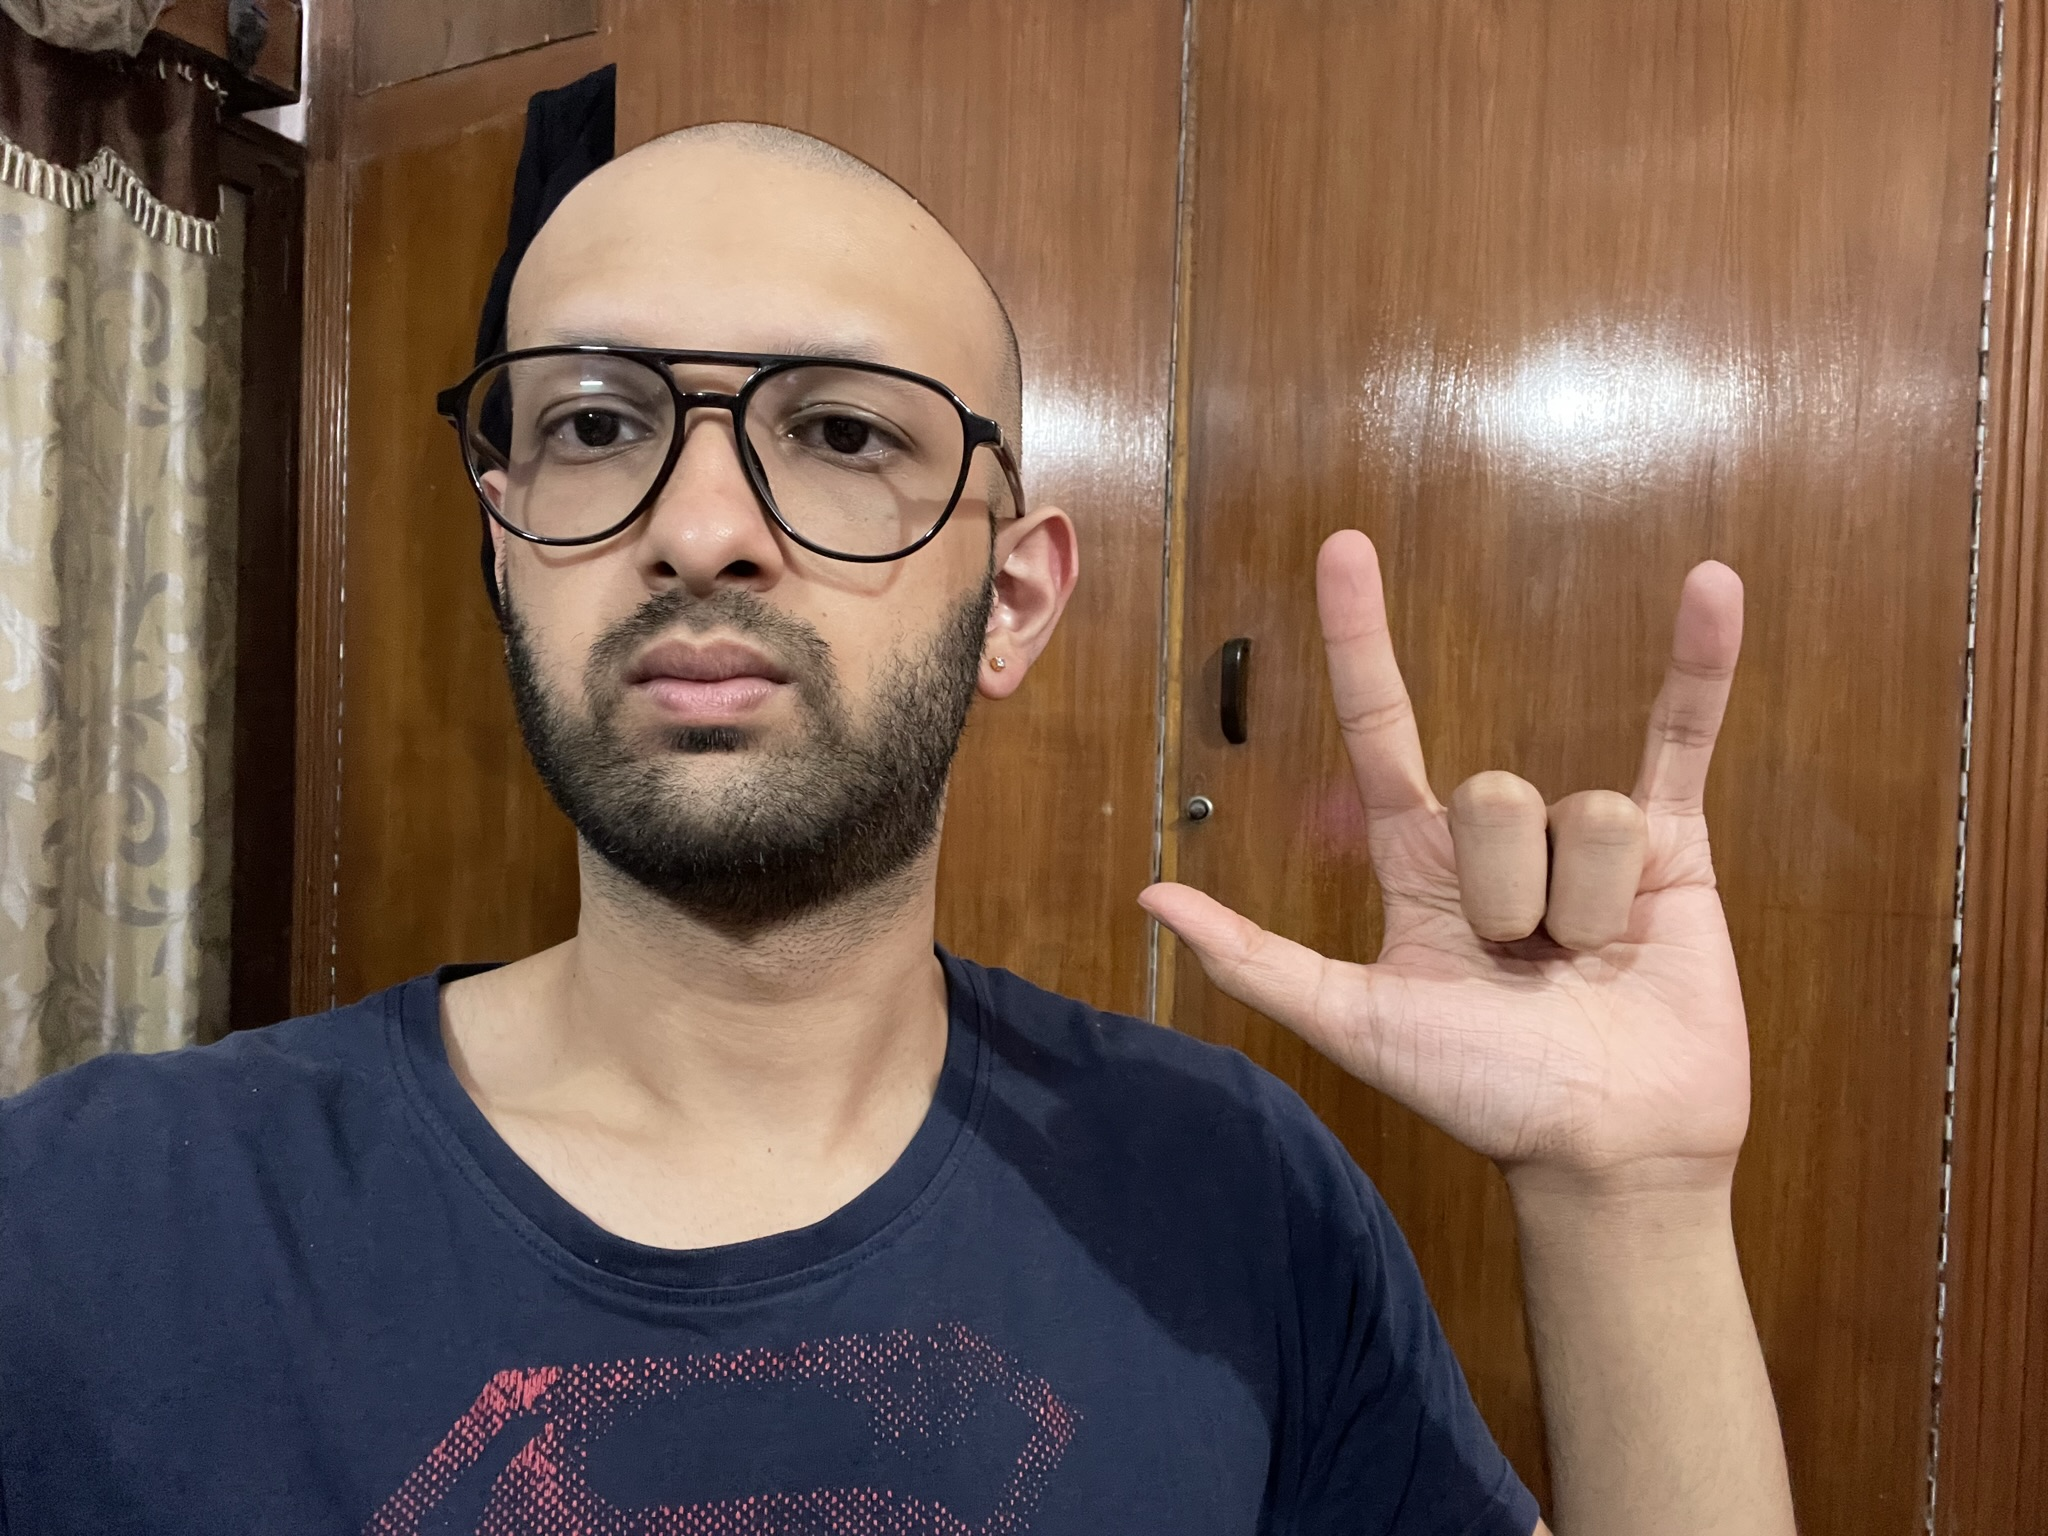I Love You: (1132, 523, 1793, 1179)
